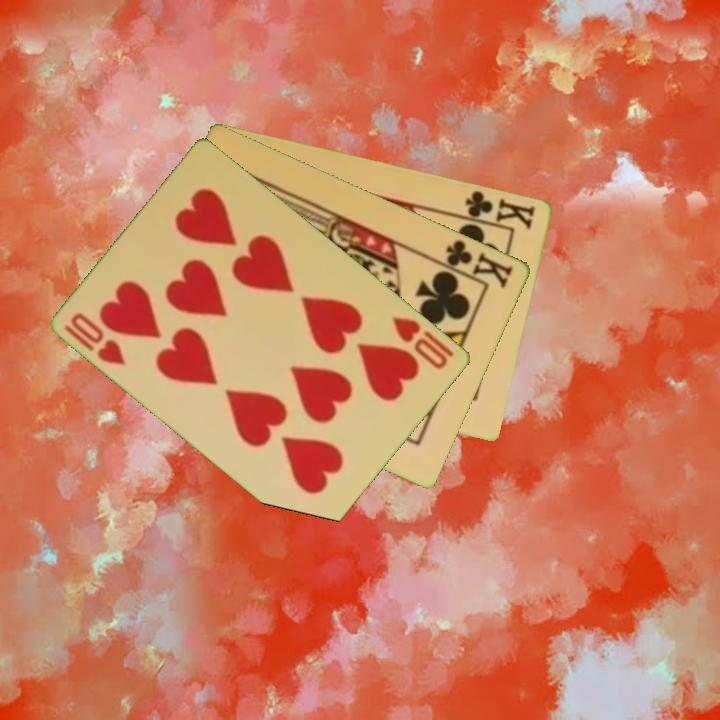10h: (61, 309, 130, 369), (388, 313, 458, 372)
Kc: (433, 236, 517, 291), (455, 186, 539, 232)
